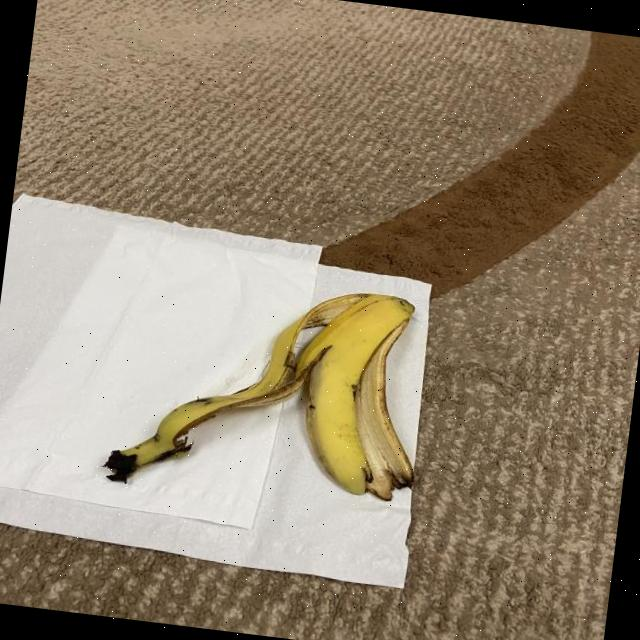banana-peel: (98, 260, 436, 518)
